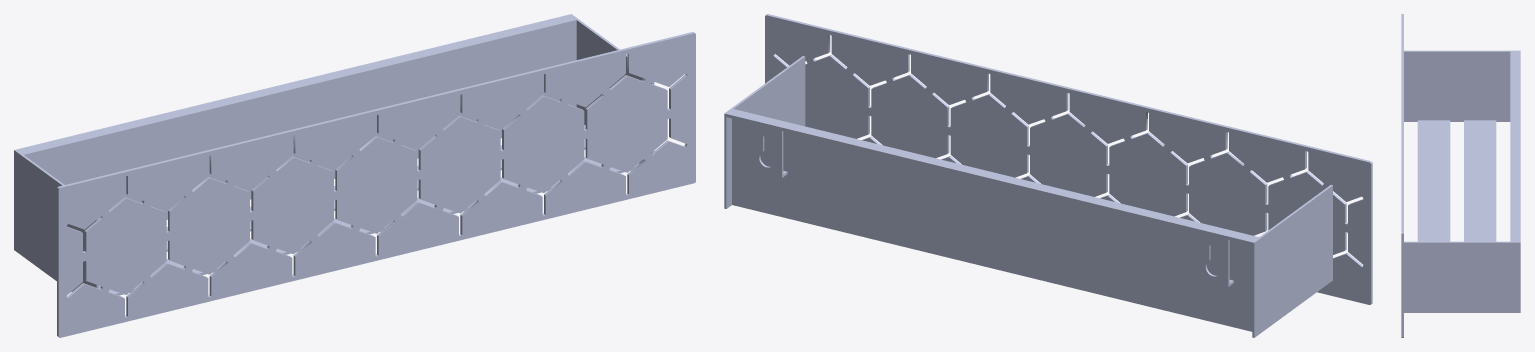
The model's file is bee-mono.e7d211be5b.glb.
3 renders of one model, left to right at view 1: azimuth 30°, elevation 25°; view 2: azimuth 150°, elevation 25°; view 3: azimuth 270°, elevation 25°, orthographic. The views are drawn at different scales.
Visible parts, largest first — view 1: NAUO1; view 2: NAUO1; view 3: NAUO1.
Boxes of the visible parts, x1=… form: NAUO1: x1=14, y1=14, x2=695, y2=337; NAUO1: x1=724, y1=14, x2=1372, y2=337; NAUO1: x1=1401, y1=14, x2=1520, y2=337.
Bounding box in the file's own units: 0.4 × 0.09 × 0.092.
